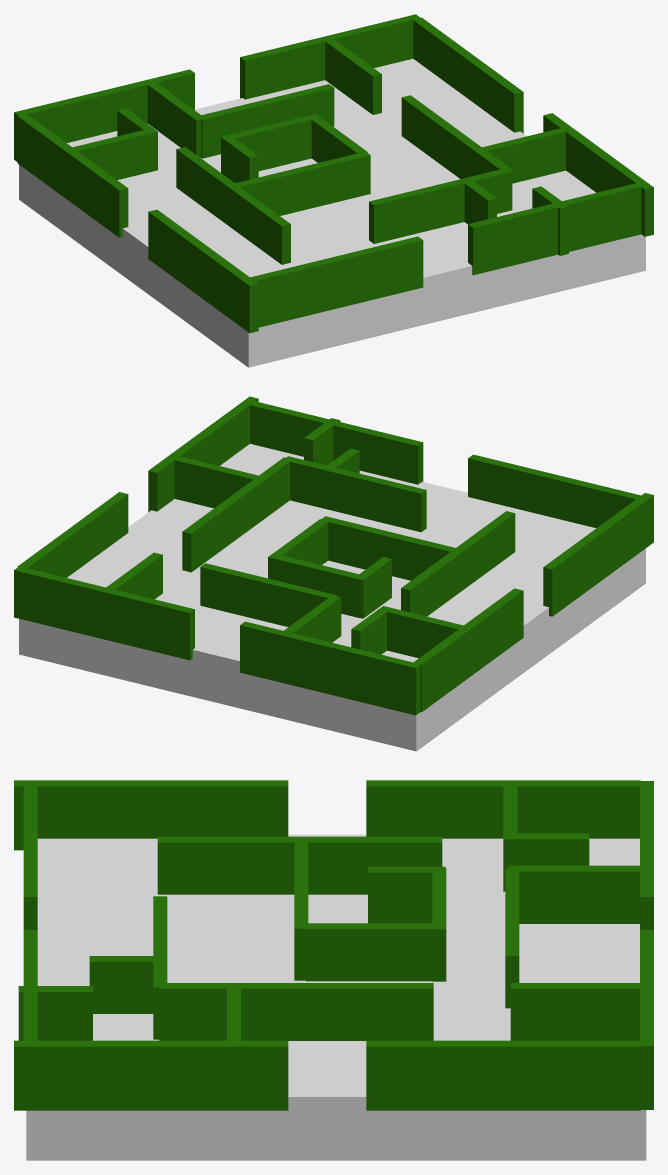
File: WallTest.fbx
3 views of the same model, one above another, from view 1: azimuth 30°, elevation 25°; view 2: azimuth 150°, elevation 25°; view 3: azimuth 270°, elevation 25° (orthographic). The views are drawn at different scales.
Visible parts, largest first — view 1: pCube26; view 2: pCube26; view 3: pCube26.
Boxes of the visible parts, bbox=[...] form: pCube26: bbox=[14, 14, 653, 367]; pCube26: bbox=[14, 396, 653, 751]; pCube26: bbox=[14, 780, 653, 1160].
Size of the model in its own units: 8.94 by 1.81 by 9.08.
